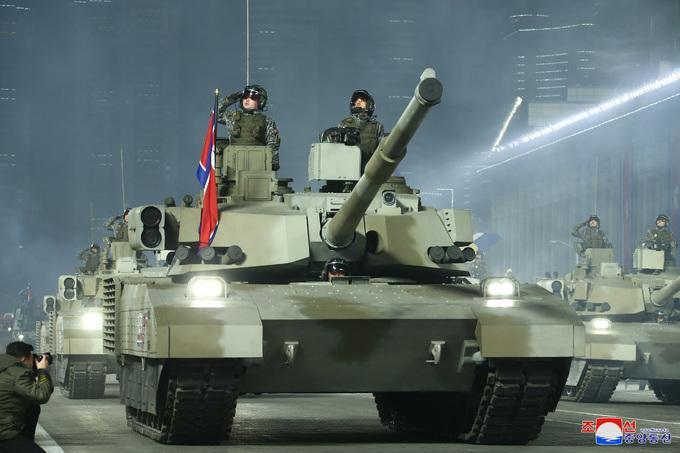MIL_IFV: (108, 81, 586, 445)
